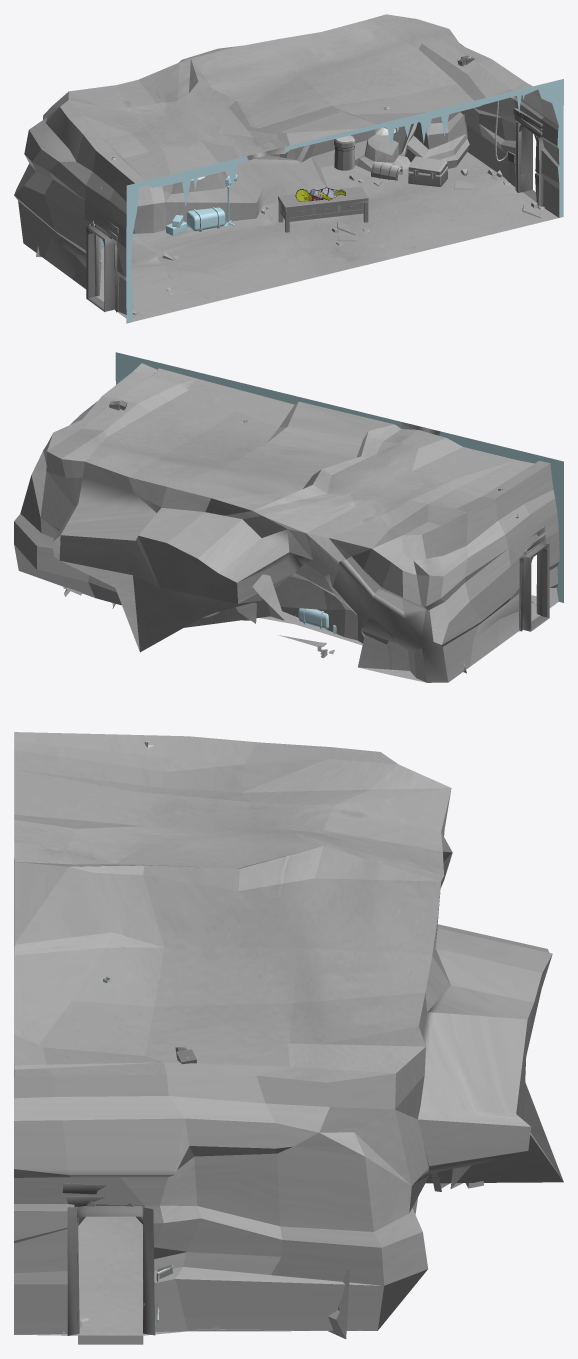
The model's file is MSH_QuestUFO_L1_R2_optimized.fbx.
The picture shows the model from 3 angles, top to bottom: view 1: azimuth 30°, elevation 25°; view 2: azimuth 150°, elevation 25°; view 3: azimuth 270°, elevation 25°; orthographic projection. The views are drawn at different scales.
Parts seen in each view (by area): view 1: lightmap2, lightmap0; view 2: lightmap2, lightmap0; view 3: lightmap2, lightmap0.
Part boxes in pixels (x1,y1,x2,y2): lightmap2: (14,14,563,323); lightmap0: (86,55,543,312); lightmap2: (14,352,563,682); lightmap0: (109,400,549,633); lightmap2: (14,732,563,1338); lightmap0: (62,741,196,1344).
Size of the model in its own units: 20.63 by 6.58 by 12.32.
3 materials, 2 textured.
